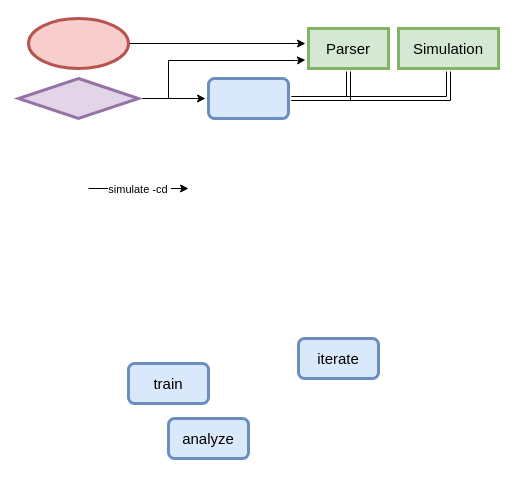
Image size: 517x477. Some labels were removed from this diagram. The box of each missing label's shape, as (x1, y1, x2, y2) in pixels:
CLI: (16, 76, 140, 120)
config.yaml: (26, 16, 130, 70)
simulate: (206, 76, 290, 120)
